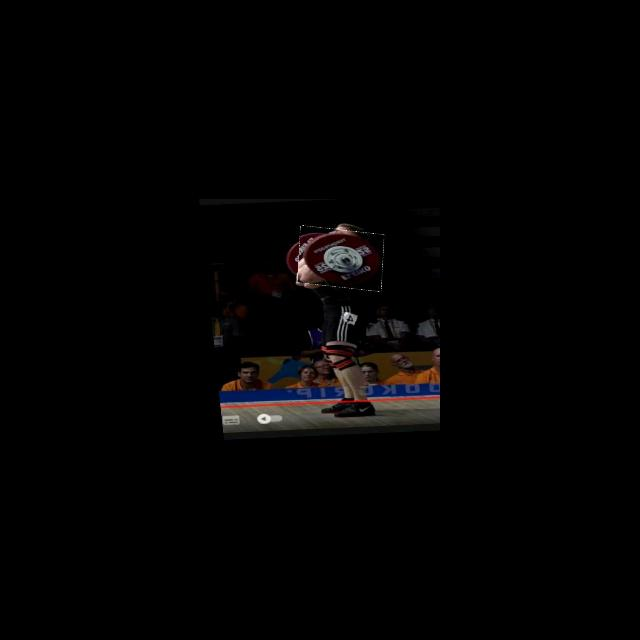barbell: (293, 226, 385, 293)
